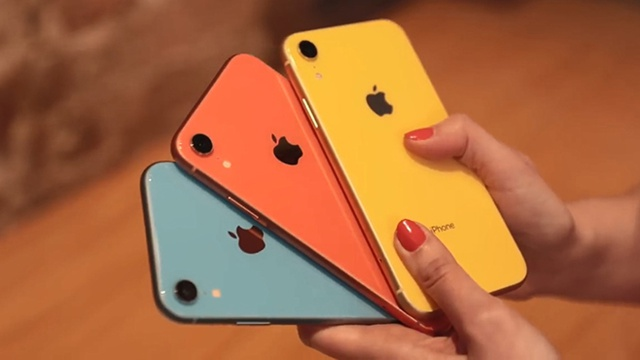apple: (215, 221, 277, 259), (264, 125, 309, 170), (358, 76, 394, 122)
